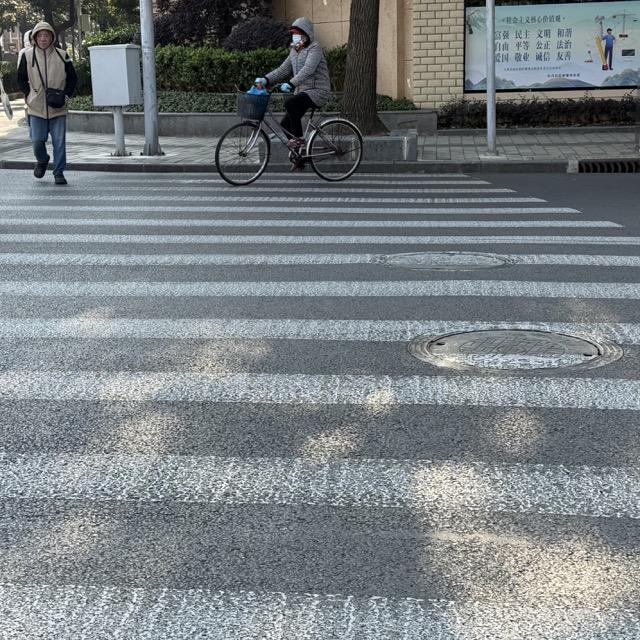curb: (356, 161, 567, 173), (159, 113, 238, 136), (71, 162, 215, 173), (379, 111, 436, 134), (69, 112, 113, 135), (576, 159, 639, 173), (125, 113, 143, 135), (0, 160, 29, 169), (267, 163, 289, 172)
